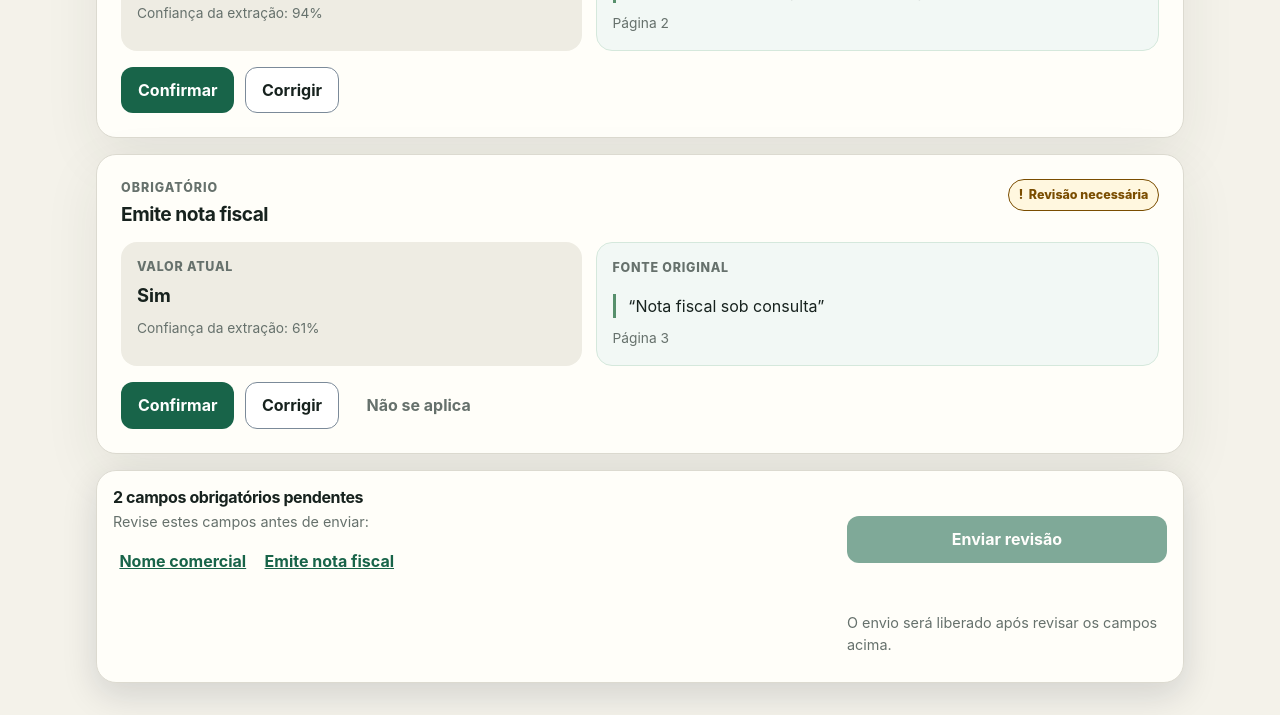
Test: SupplierProfileReviewPage › marks an allowed field as not applicable without treating it as not found
(page scrolled)
Click the button "Não se aplica" at (419, 405), box [349,382,488,429]
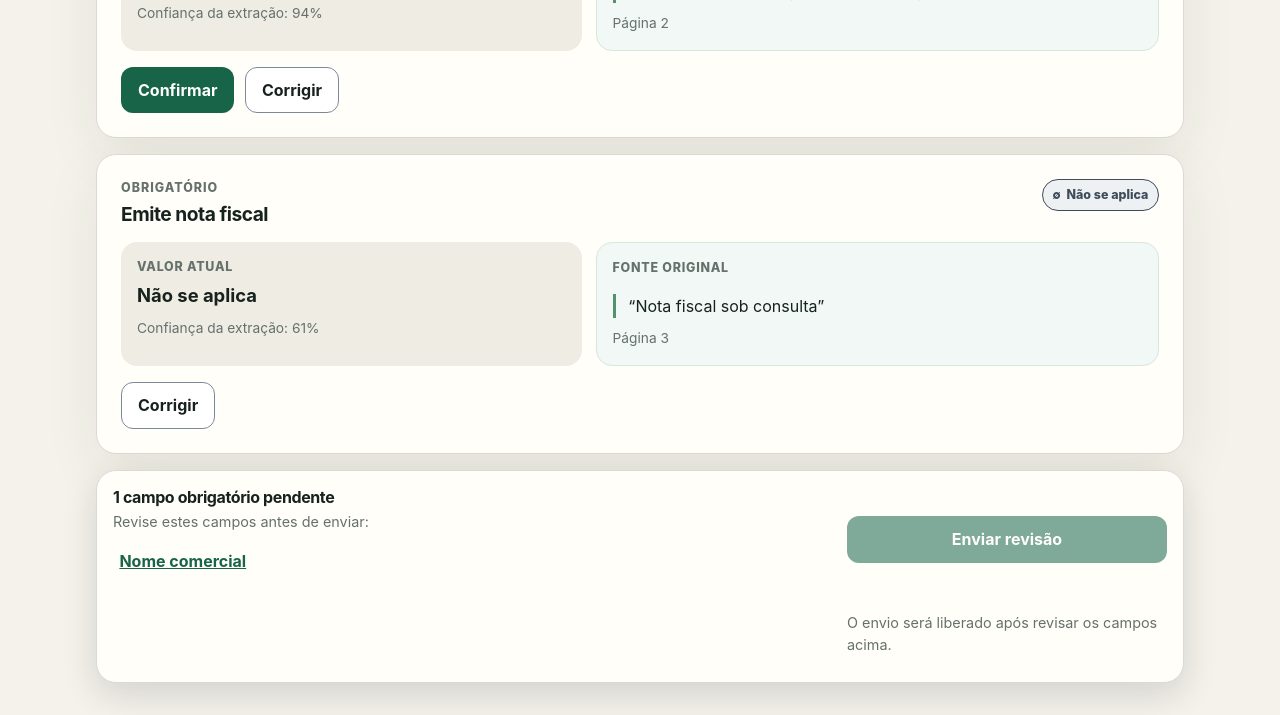
Expected: the text "Não se aplica" is shown, [1066,187,1148,202]
